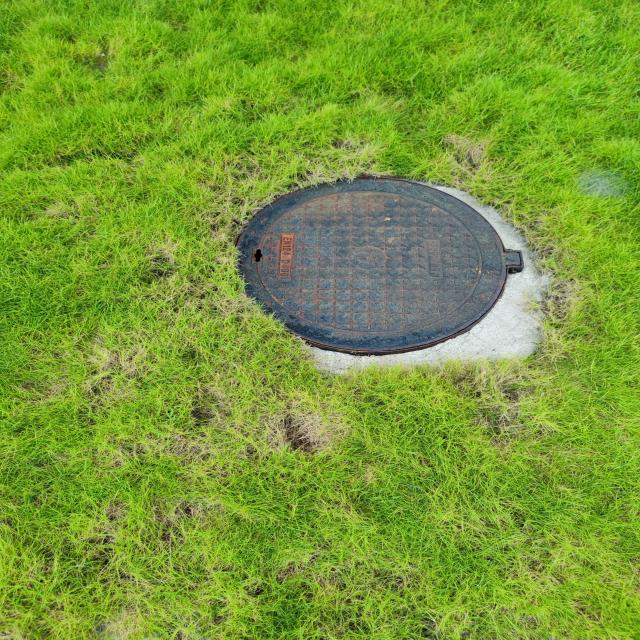Good: (226, 168, 536, 360)
